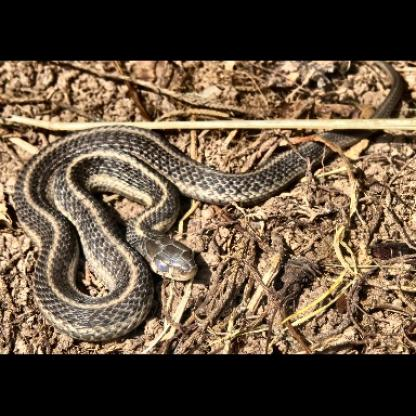Snake: (6, 110, 294, 345)
